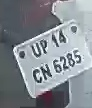1: (51, 33, 59, 48)
2: (58, 54, 69, 69)
4: (57, 31, 68, 44)
5: (72, 48, 83, 65)
6: (52, 59, 62, 75)
8: (66, 52, 75, 67)
C: (33, 68, 43, 85)
N: (40, 62, 53, 80)
P: (41, 39, 50, 54)
U: (30, 42, 42, 59)
